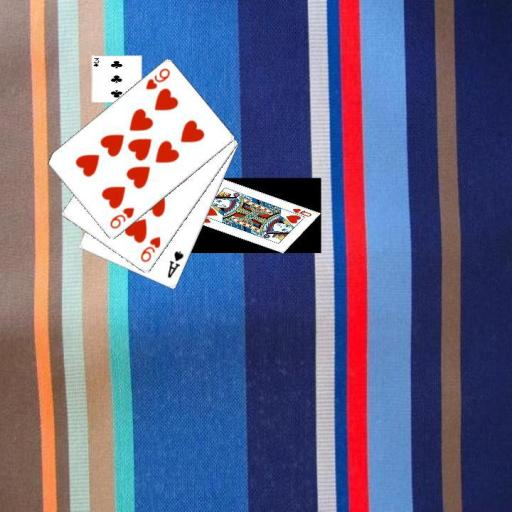9H: (107, 204, 136, 231), (143, 65, 172, 92), (137, 234, 162, 264)
AS: (164, 248, 185, 280)
